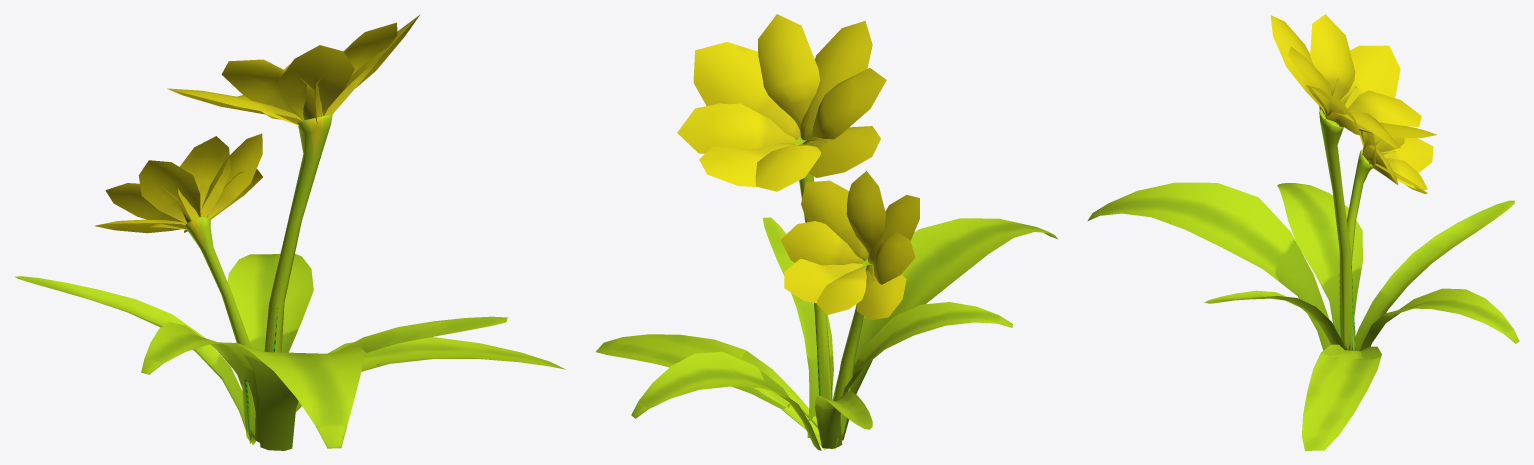
Rendered from grass2.fbx.
3 views of the same model, side by side, from view 1: azimuth 30°, elevation 25°; view 2: azimuth 150°, elevation 25°; view 3: azimuth 270°, elevation 25° (orthographic). The views are drawn at different scales.
Visible parts, largest first — view 1: LCN_VEG_GRASS_1; view 2: LCN_VEG_GRASS_1; view 3: LCN_VEG_GRASS_1.
Boxes of the visible parts, <box> form: LCN_VEG_GRASS_1: <box>14,14,565,450</box>; LCN_VEG_GRASS_1: <box>596,14,1057,450</box>; LCN_VEG_GRASS_1: <box>1088,14,1519,450</box>.
Bounding box in the file's own units: 27.02 × 25.56 × 28.37.
